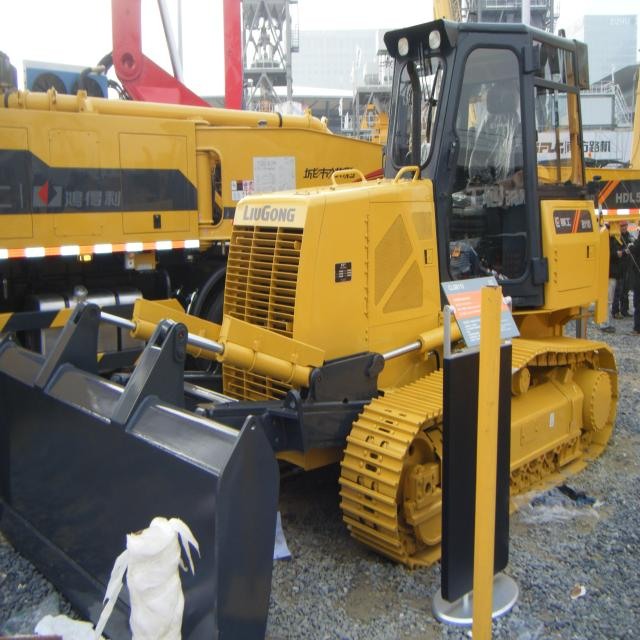buldozerpayloadergrader: (19, 13, 640, 631)
